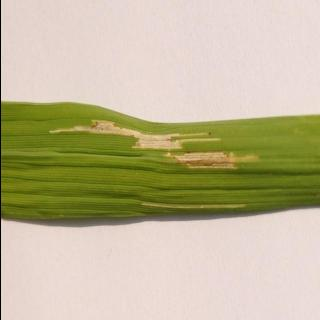Hawar-Daun: (42, 122, 260, 179)
